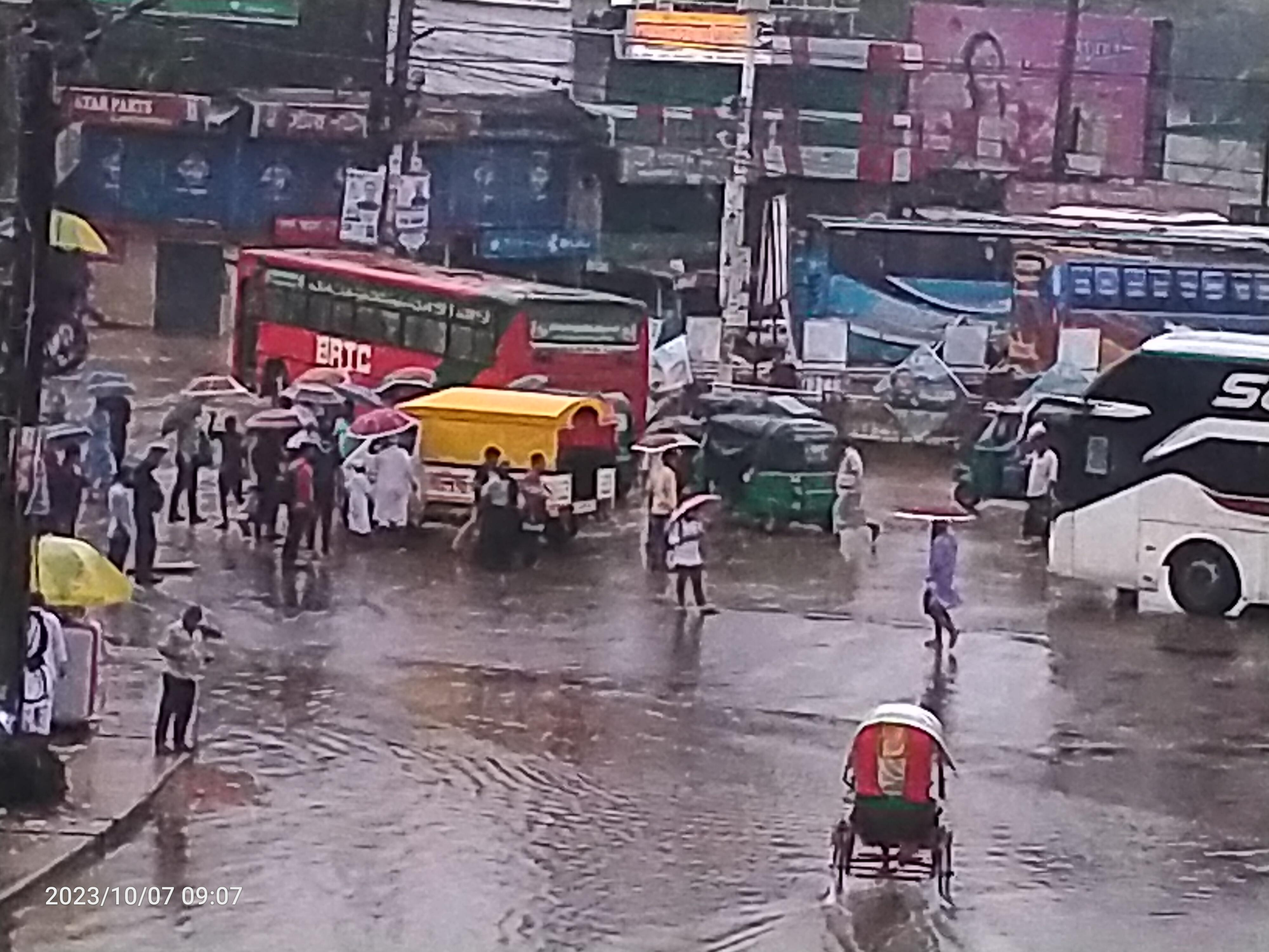Bus: (201, 208, 672, 507), (727, 162, 1073, 454), (1029, 320, 1269, 648), (990, 193, 1269, 421)
Car: (334, 370, 636, 585), (798, 668, 1011, 944)
